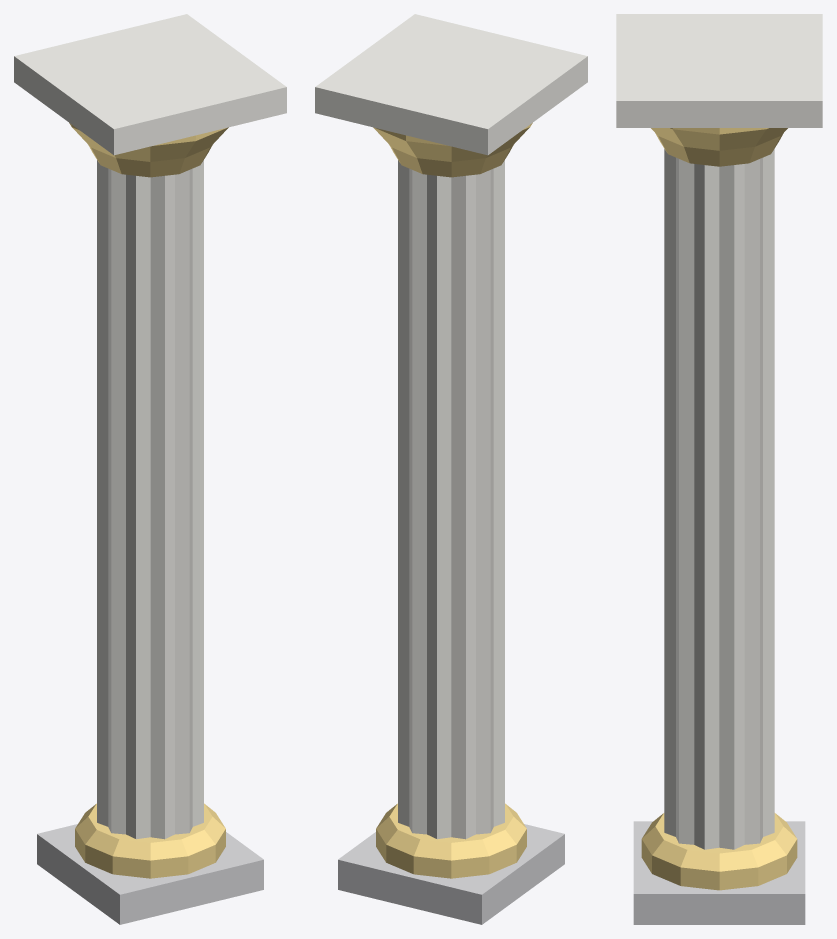
The model's file is Column.obj.
3 views of the same model, side by side, from view 1: azimuth 30°, elevation 25°; view 2: azimuth 150°, elevation 25°; view 3: azimuth 270°, elevation 25° (orthographic). The views are drawn at different scales.
Visible parts, largest first — view 1: Column; view 2: Column; view 3: Column.
Part boxes in pixels (left/top/right/bottom): Column: left=14, top=14, right=286, bottom=924; Column: left=315, top=14, right=587, bottom=924; Column: left=616, top=14, right=822, bottom=924.
Size of the model in its own units: 1.8 by 8.01 by 1.8.
1 material, 1 textured.
